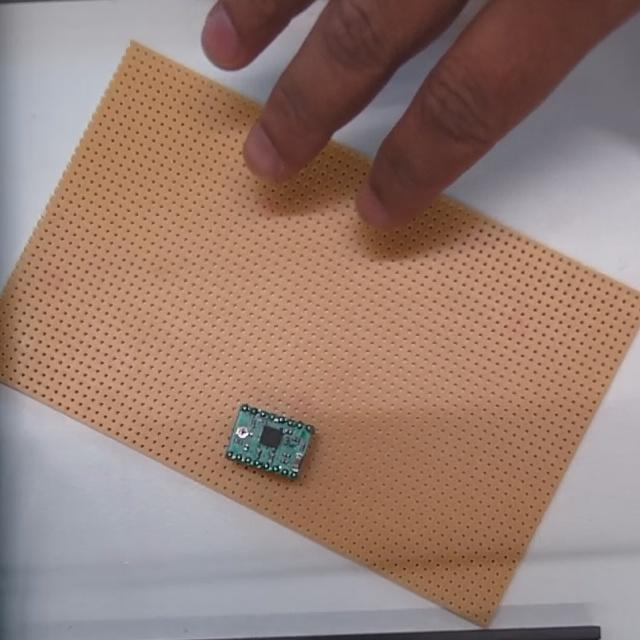Chip: (225, 402, 318, 489)
